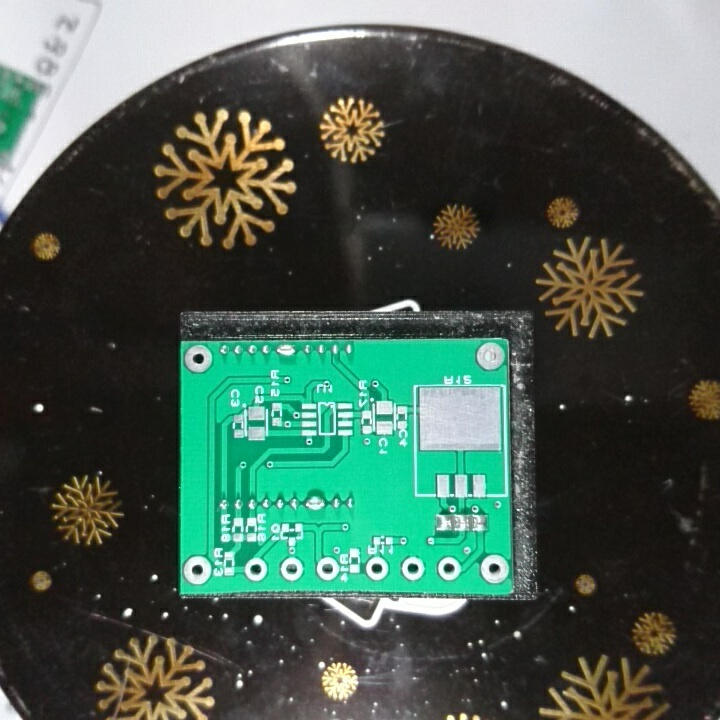F: (182, 552, 213, 589), (182, 343, 214, 377), (479, 552, 511, 586), (474, 339, 506, 372), (398, 555, 428, 582), (279, 555, 306, 583), (363, 556, 391, 583), (243, 555, 269, 583), (437, 555, 463, 583), (314, 555, 339, 583)
P: (304, 493, 327, 515), (275, 341, 297, 362)
